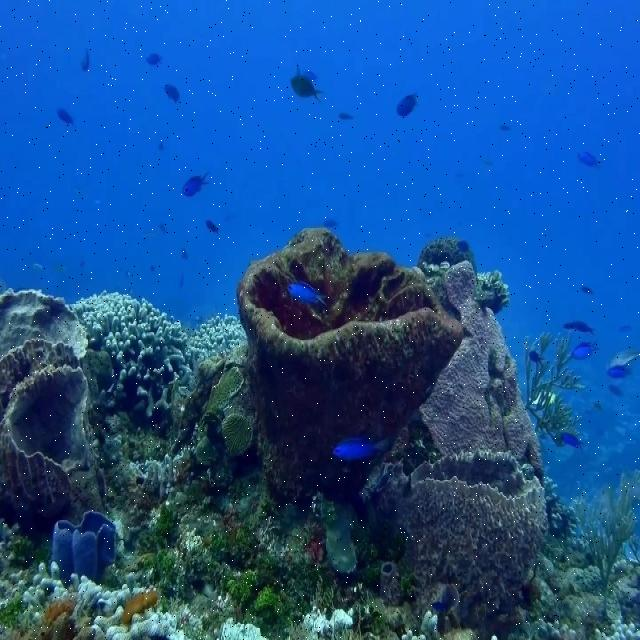aquatic plants: (523, 329, 586, 448)
fish: (288, 281, 330, 311), (290, 71, 324, 104), (336, 438, 389, 459), (183, 170, 210, 197), (398, 92, 417, 116)
reefs: (52, 512, 116, 590)
sea-floor: (237, 226, 547, 639), (0, 291, 106, 546)
